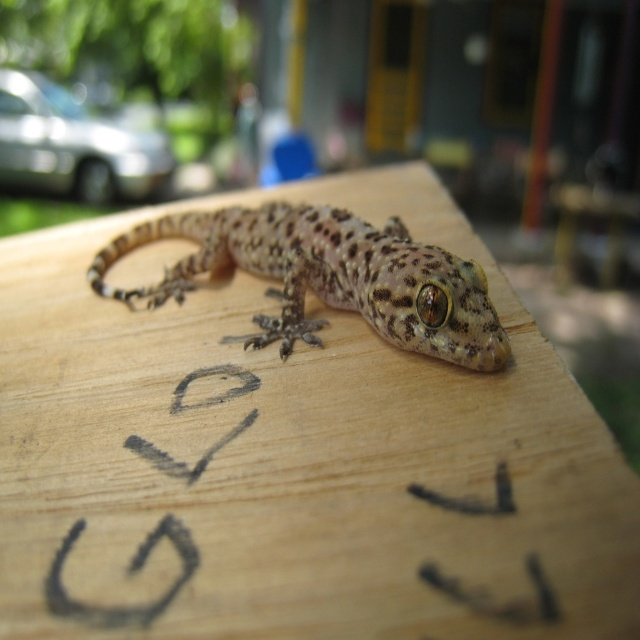Lizard: (88, 201, 510, 376)
